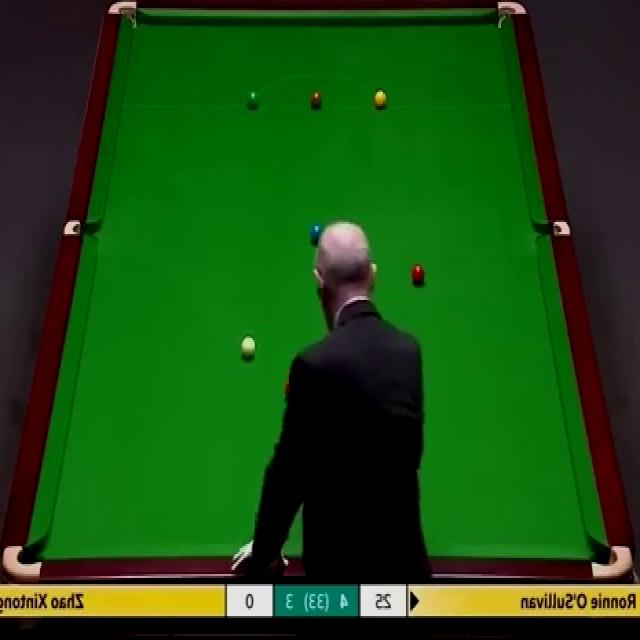pocket: (2, 540, 44, 580), (590, 546, 633, 579), (495, 0, 531, 34), (107, 0, 142, 32), (62, 220, 103, 235), (535, 220, 573, 235)
